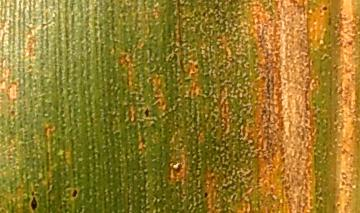tarspot: (26, 195, 40, 211), (140, 104, 151, 120), (201, 188, 211, 201), (68, 188, 80, 198), (320, 3, 329, 15)
